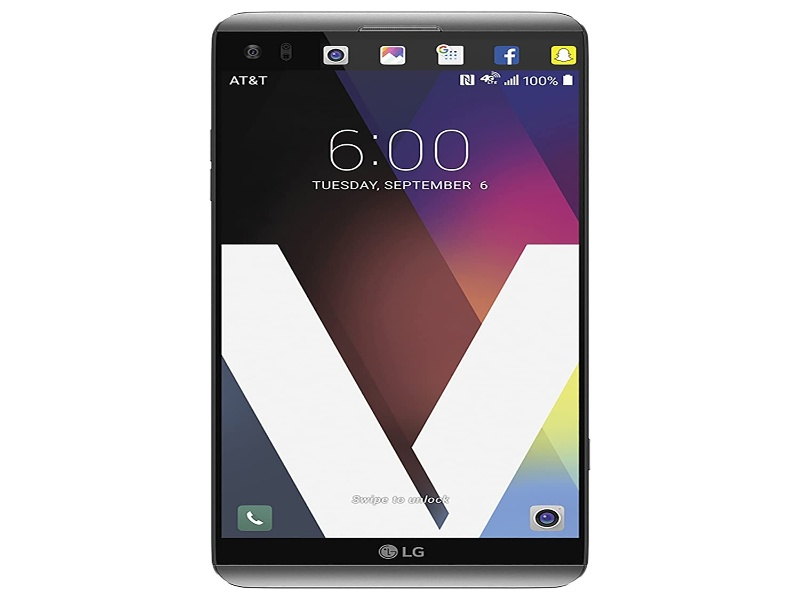mobile: (208, 5, 598, 593)
